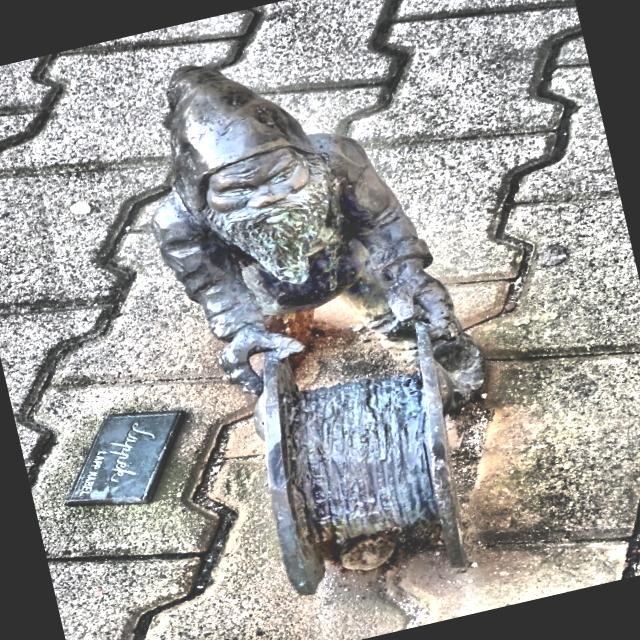Lappek: (152, 67, 486, 596)
